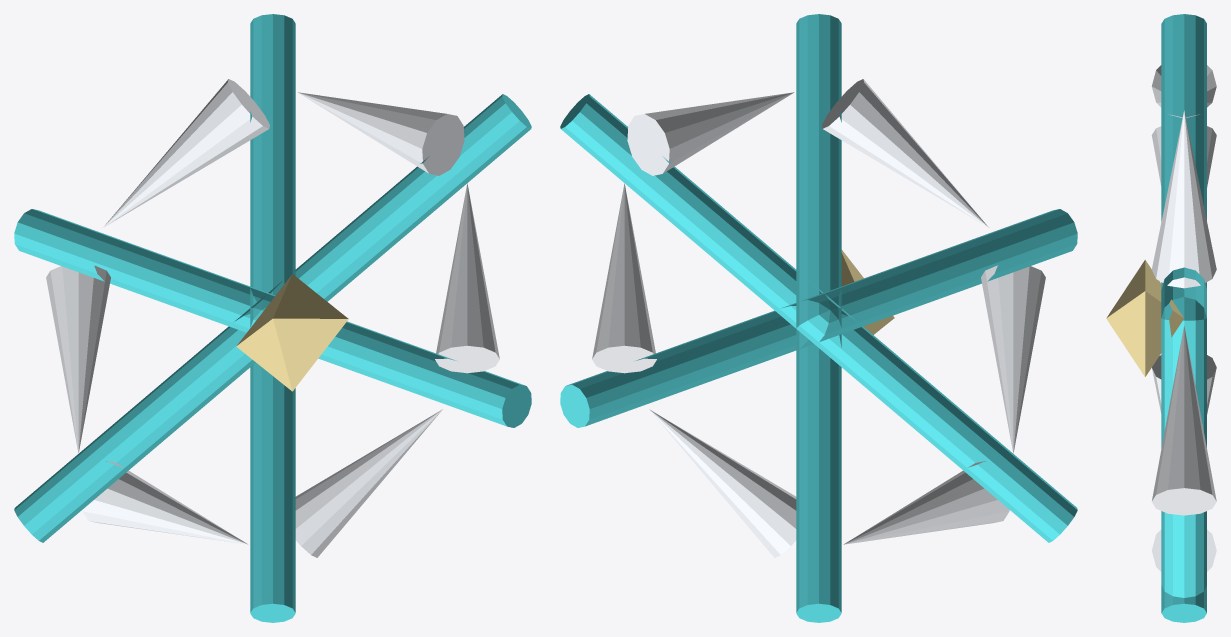
File: minglora_crystal_snowflake.gltf
3 views of the same model, side by side, from view 1: azimuth 30°, elevation 25°; view 2: azimuth 150°, elevation 25°; view 3: azimuth 270°, elevation 25° (orthographic).
Parts seen in each view (by area): view 1: minglora_crystal_snowflake_2, minglora_crystal_snowflake_0, minglora_crystal_snowflake_1, minglora_crystal_snowflake_9, minglora_crystal_snowflake_5, minglora_crystal_snowflake_3, minglora_crystal_snowflake_6, minglora_crystal_snowflake_8, minglora_crystal_snowflake_4, minglora_crystal_snowflake_7; view 2: minglora_crystal_snowflake_2, minglora_crystal_snowflake_0, minglora_crystal_snowflake_1, minglora_crystal_snowflake_5, minglora_crystal_snowflake_3, minglora_crystal_snowflake_6, minglora_crystal_snowflake_8, minglora_crystal_snowflake_4, minglora_crystal_snowflake_7, minglora_crystal_snowflake_9; view 3: minglora_crystal_snowflake_0, minglora_crystal_snowflake_1, minglora_crystal_snowflake_3, minglora_crystal_snowflake_4, minglora_crystal_snowflake_9, minglora_crystal_snowflake_2, minglora_crystal_snowflake_6, minglora_crystal_snowflake_7, minglora_crystal_snowflake_5, minglora_crystal_snowflake_8.
Boxes of the visible parts, x1,y1,x2,y2 form: minglora_crystal_snowflake_2: (14, 94, 531, 542); minglora_crystal_snowflake_0: (250, 14, 295, 622); minglora_crystal_snowflake_1: (14, 209, 531, 427); minglora_crystal_snowflake_9: (236, 274, 348, 391); minglora_crystal_snowflake_5: (103, 79, 269, 227); minglora_crystal_snowflake_3: (435, 183, 499, 373); minglora_crystal_snowflake_6: (46, 265, 110, 453); minglora_crystal_snowflake_8: (295, 409, 442, 557); minglora_crystal_snowflake_4: (297, 92, 464, 175); minglora_crystal_snowflake_7: (82, 461, 248, 544); minglora_crystal_snowflake_2: (560, 94, 1077, 542); minglora_crystal_snowflake_0: (796, 14, 841, 622); minglora_crystal_snowflake_1: (560, 209, 1077, 427); minglora_crystal_snowflake_5: (822, 79, 988, 227); minglora_crystal_snowflake_3: (592, 183, 656, 373); minglora_crystal_snowflake_6: (981, 265, 1045, 453); minglora_crystal_snowflake_8: (649, 409, 796, 557); minglora_crystal_snowflake_4: (627, 92, 794, 175); minglora_crystal_snowflake_7: (843, 461, 1009, 544); minglora_crystal_snowflake_9: (841, 250, 894, 334); minglora_crystal_snowflake_0: (1161, 14, 1206, 622); minglora_crystal_snowflake_1: (1161, 318, 1206, 597); minglora_crystal_snowflake_3: (1151, 326, 1216, 515); minglora_crystal_snowflake_4: (1151, 110, 1216, 288); minglora_crystal_snowflake_9: (1106, 260, 1183, 376); minglora_crystal_snowflake_2: (1161, 267, 1206, 317); minglora_crystal_snowflake_6: (1151, 126, 1216, 187); minglora_crystal_snowflake_7: (1152, 355, 1216, 414); minglora_crystal_snowflake_5: (1151, 65, 1216, 118); minglora_crystal_snowflake_8: (1151, 529, 1216, 571).
Size of the model in its own units: 1.8 by 2 by 0.34.
